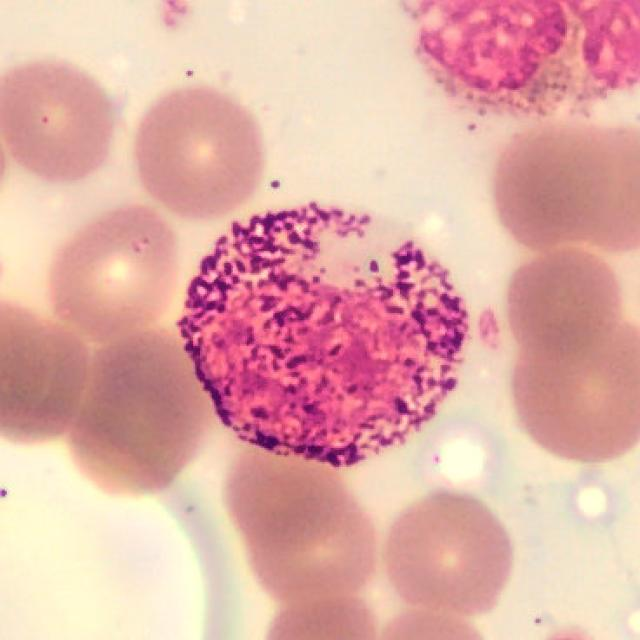Promielocito: (177, 201, 470, 470)
